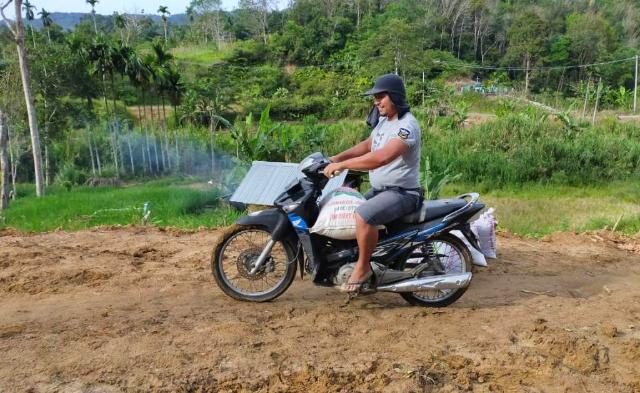motor: (195, 148, 507, 322)
non-helm: (367, 73, 413, 124)
